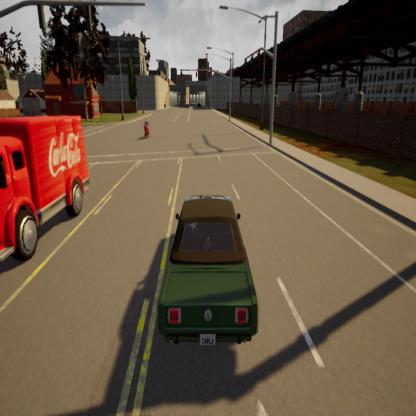Cars: (149, 187, 263, 358), (0, 108, 96, 280), (198, 101, 202, 109)
